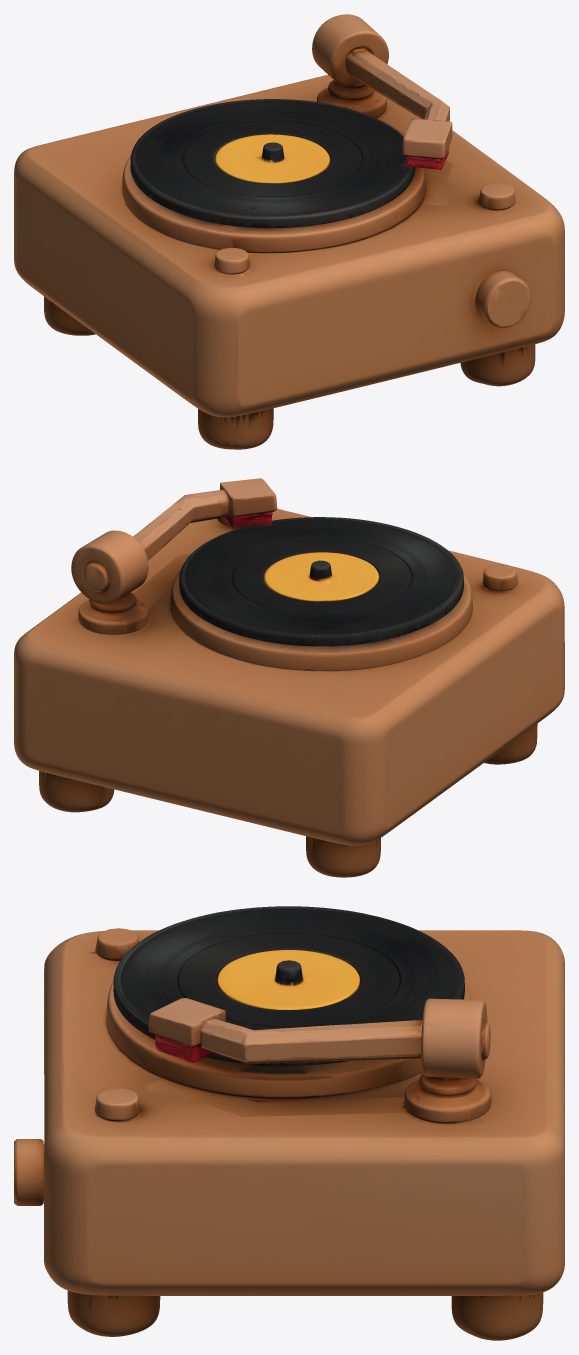
The model's file is turntable-text.glb.
3 renders of one model, top to bottom at view 1: azimuth 30°, elevation 25°; view 2: azimuth 150°, elevation 25°; view 3: azimuth 270°, elevation 25°, orthographic. The views are drawn at different scales.
Visible parts, largest first — view 1: node_0; view 2: node_0; view 3: node_0.
Boxes of the visible parts, left/top/right/bottom form: node_0: left=14, top=14, right=564, bottom=449; node_0: left=14, top=478, right=564, bottom=877; node_0: left=14, top=906, right=564, bottom=1340.
Bounding box in the file's own units: 0.838 × 0.5527 × 0.8804.
1 material, 1 textured.
